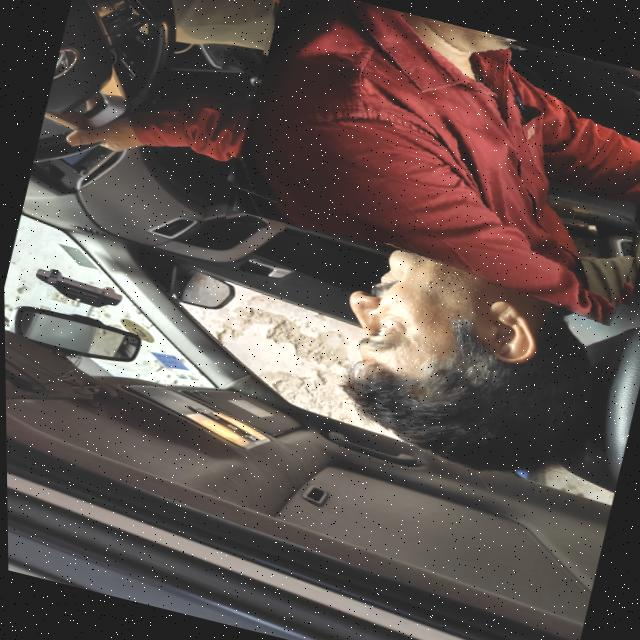no-seatbelt: (220, 0, 640, 319)
